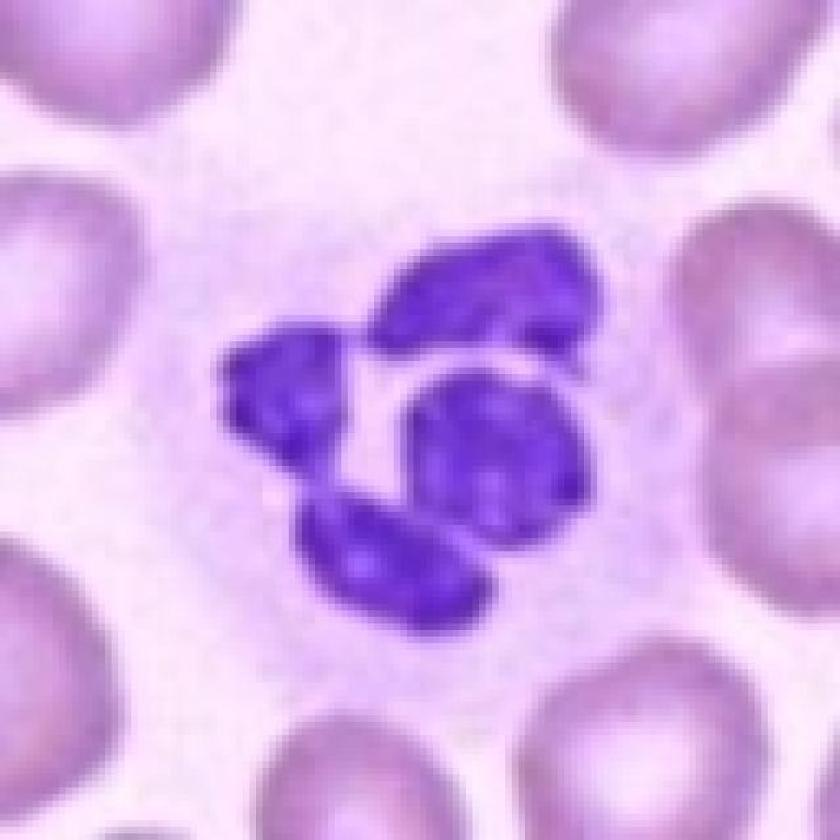neutrophil: (142, 116, 683, 681)
